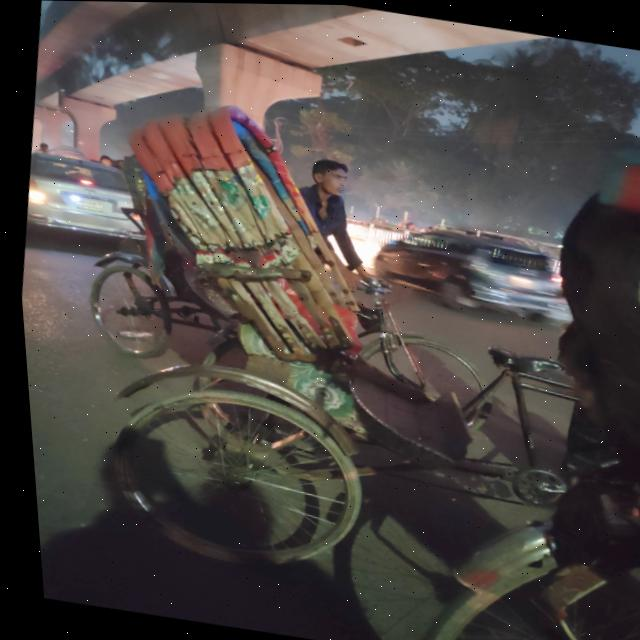rikshaw: (62, 104, 640, 640)
